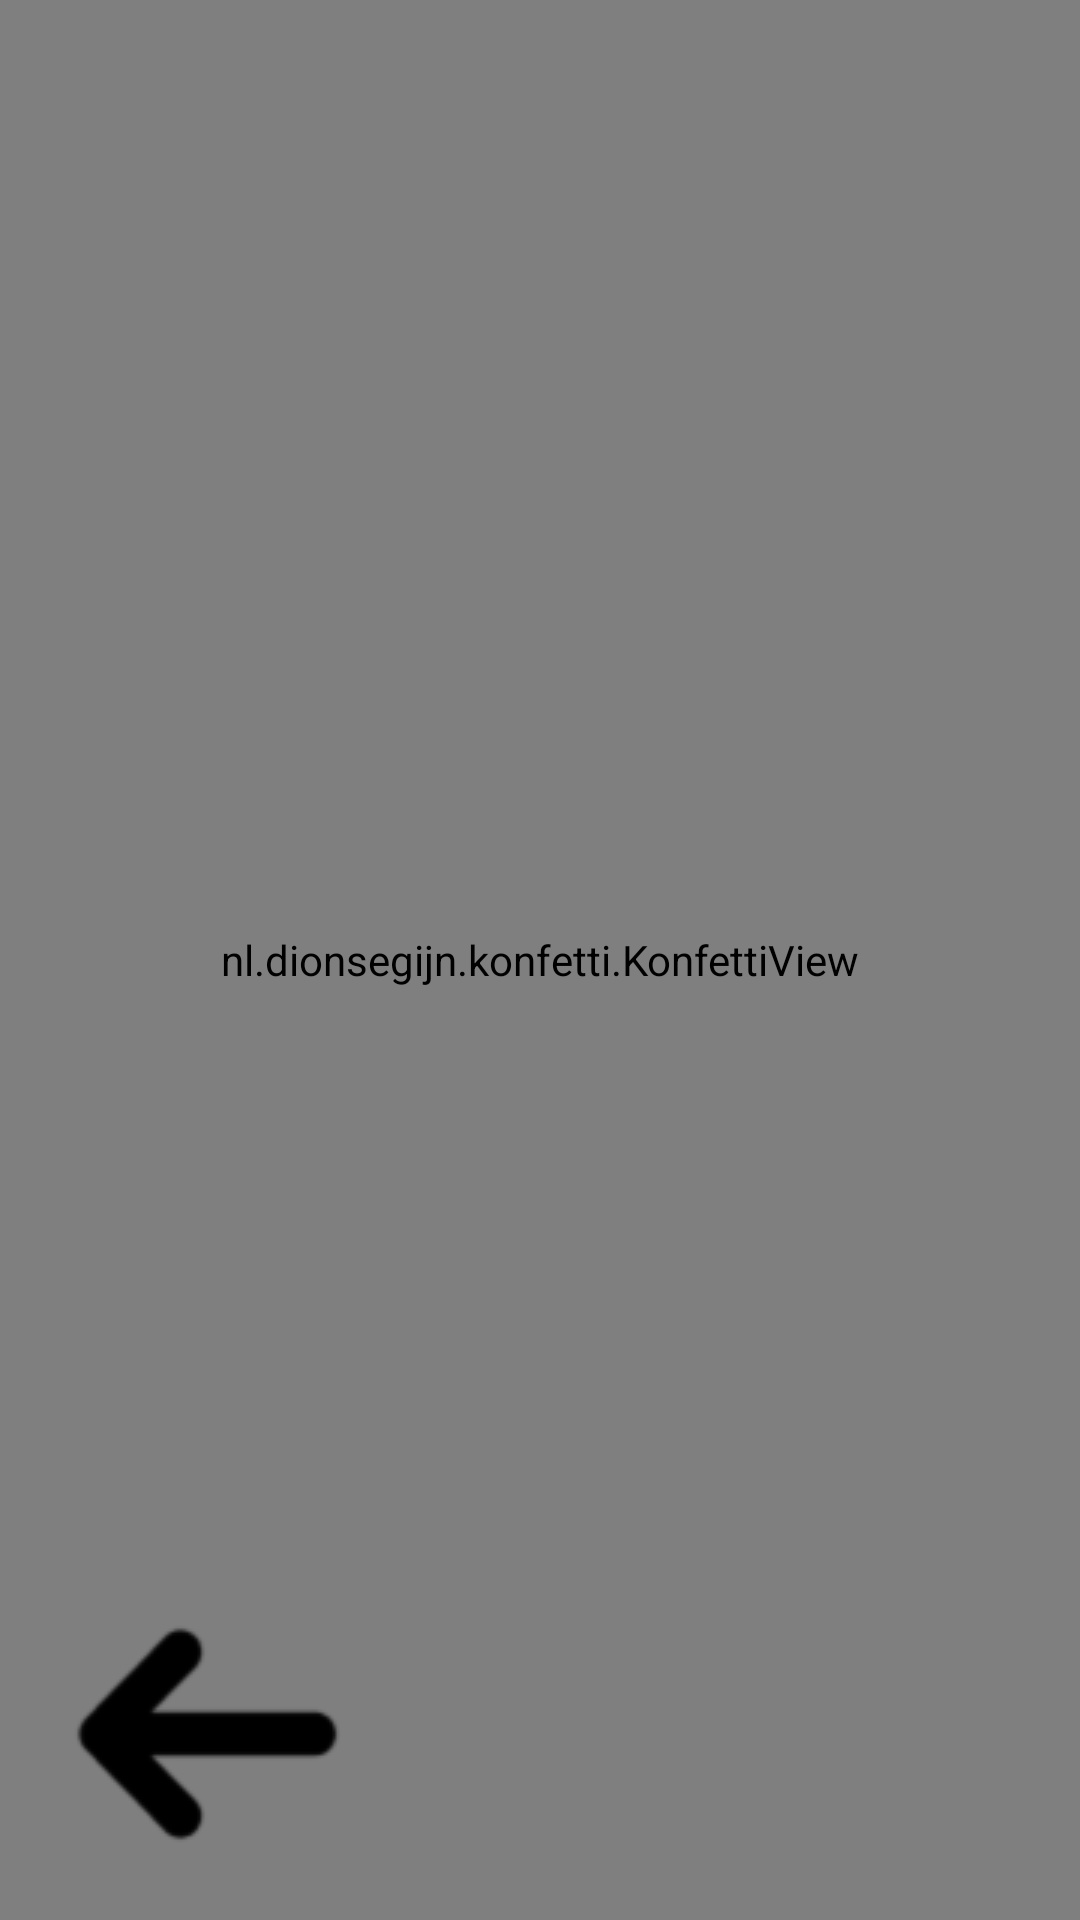

Icon click points for this 1080px×1920px phone screenshot, format [x,y]:
flecha atras: [207,1734]
